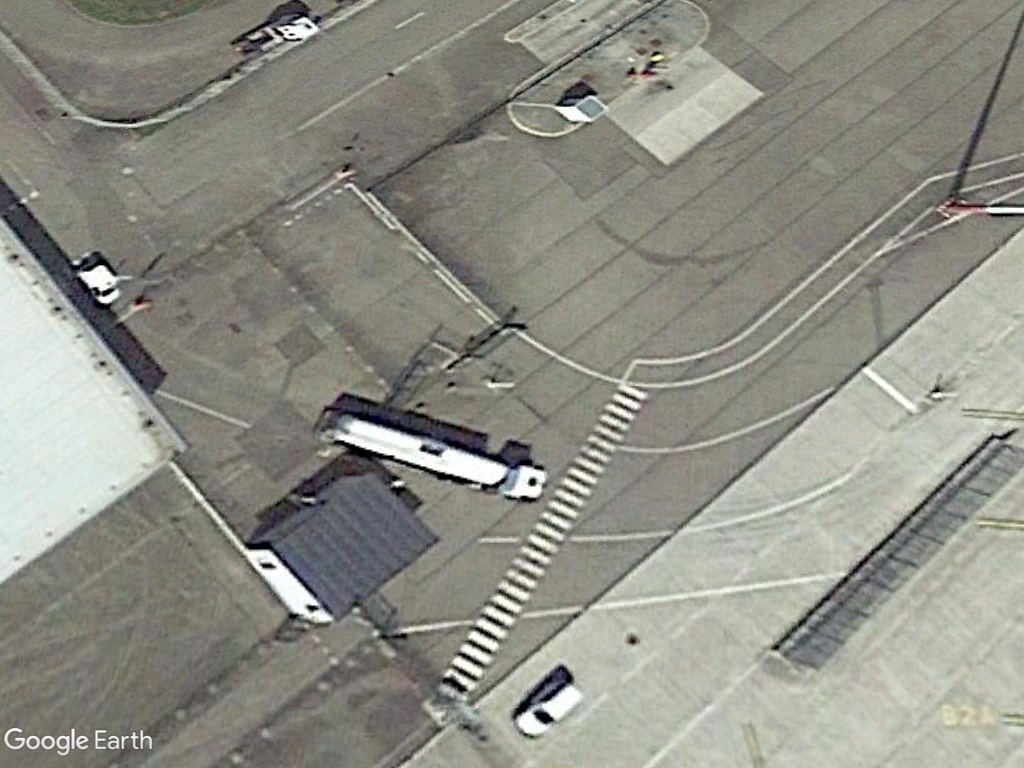truck: (317, 402, 549, 505)
van: (510, 678, 588, 743), (71, 257, 126, 306)
